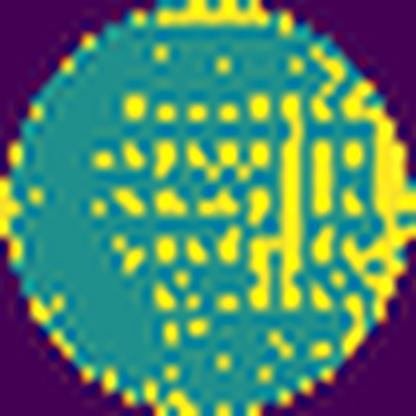Random: (93, 0, 415, 353)
